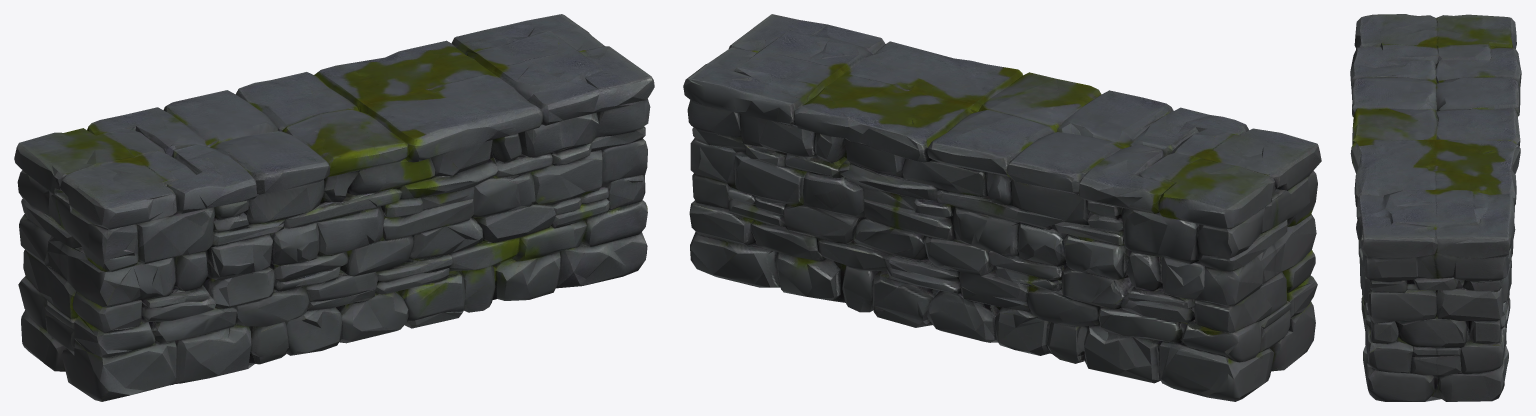
File: retaining_wall.glb
The picture shows the model from 3 angles, left to right: view 1: azimuth 30°, elevation 25°; view 2: azimuth 150°, elevation 25°; view 3: azimuth 270°, elevation 25°; orthographic projection. The views are drawn at different scales.
Bounding box in the file's own units: 1.9 × 0.6664 × 0.6154.
1 material, 1 textured.
